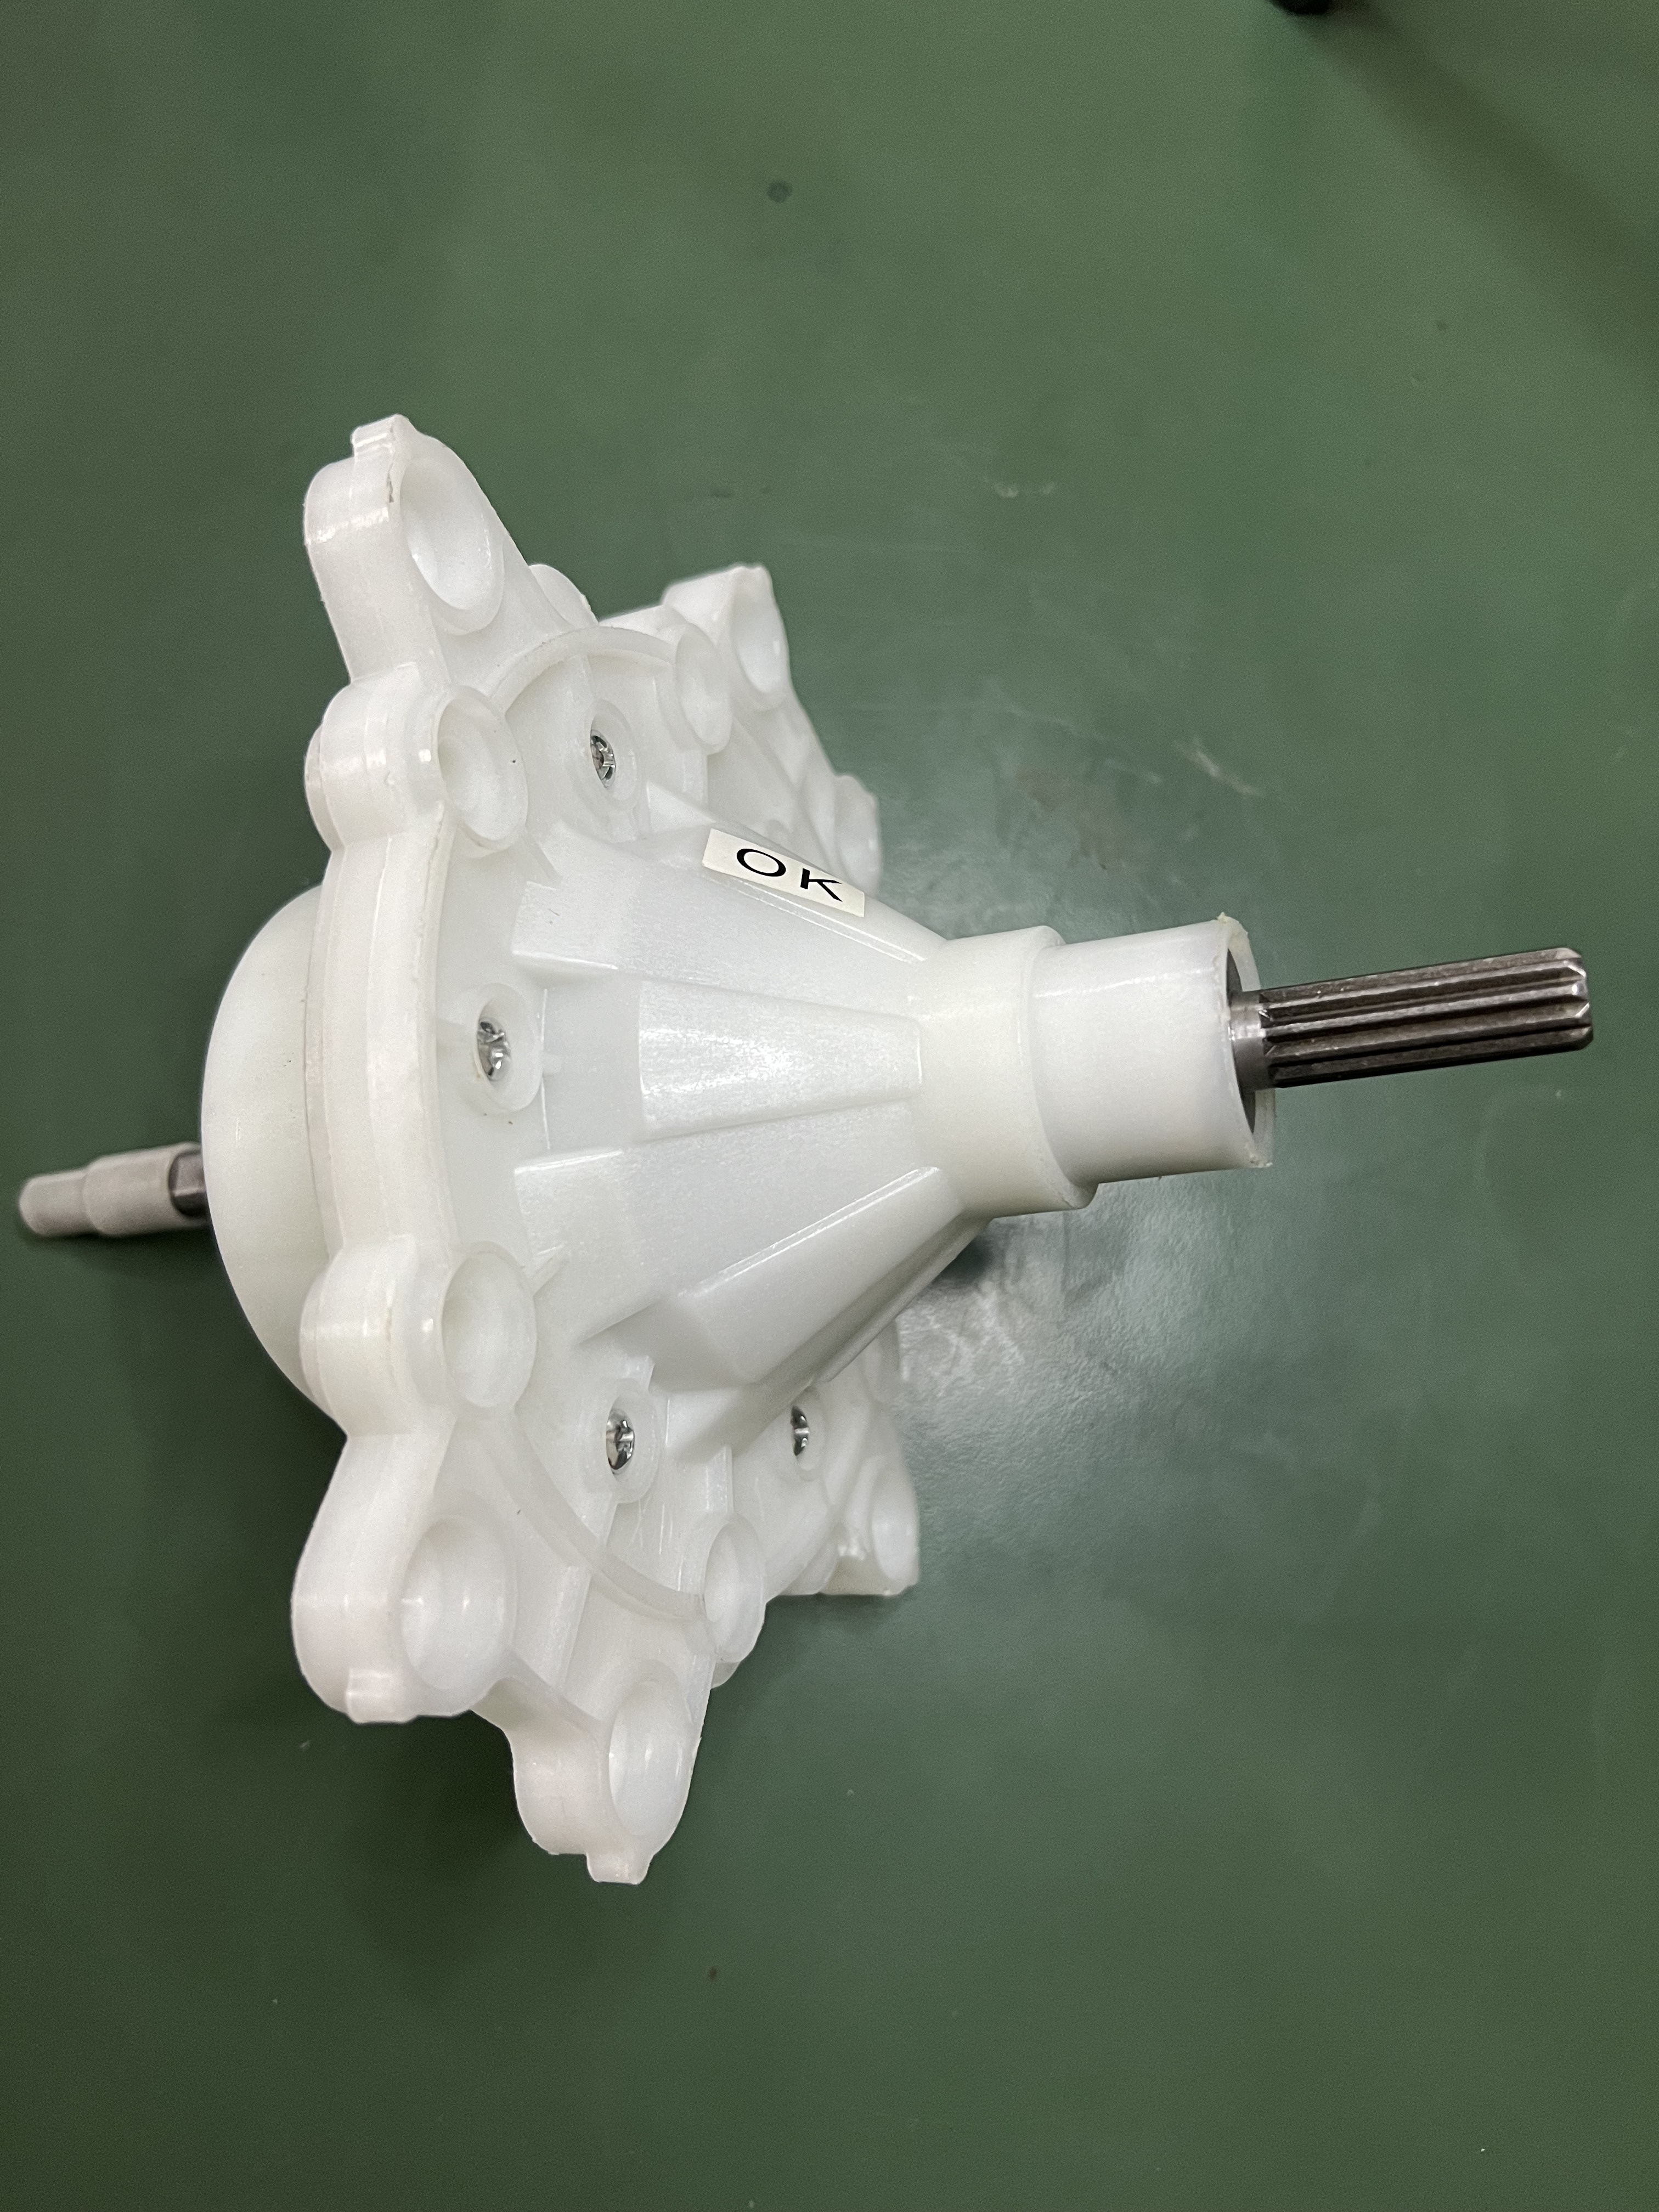gear_box_design: (31, 434, 1593, 1878)
